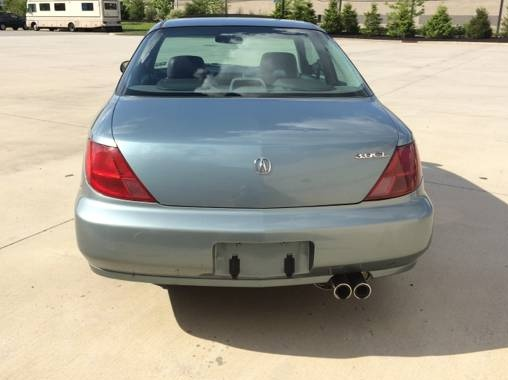acura: (79, 12, 437, 304)
